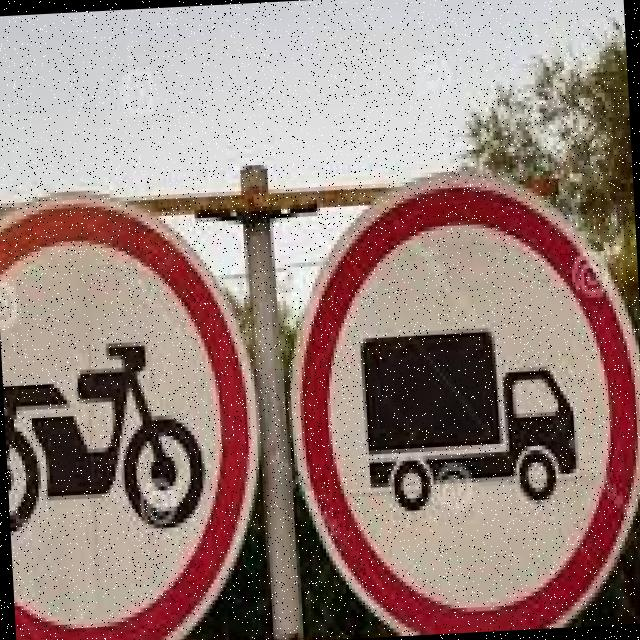do_not_enter: (269, 145, 640, 640)
